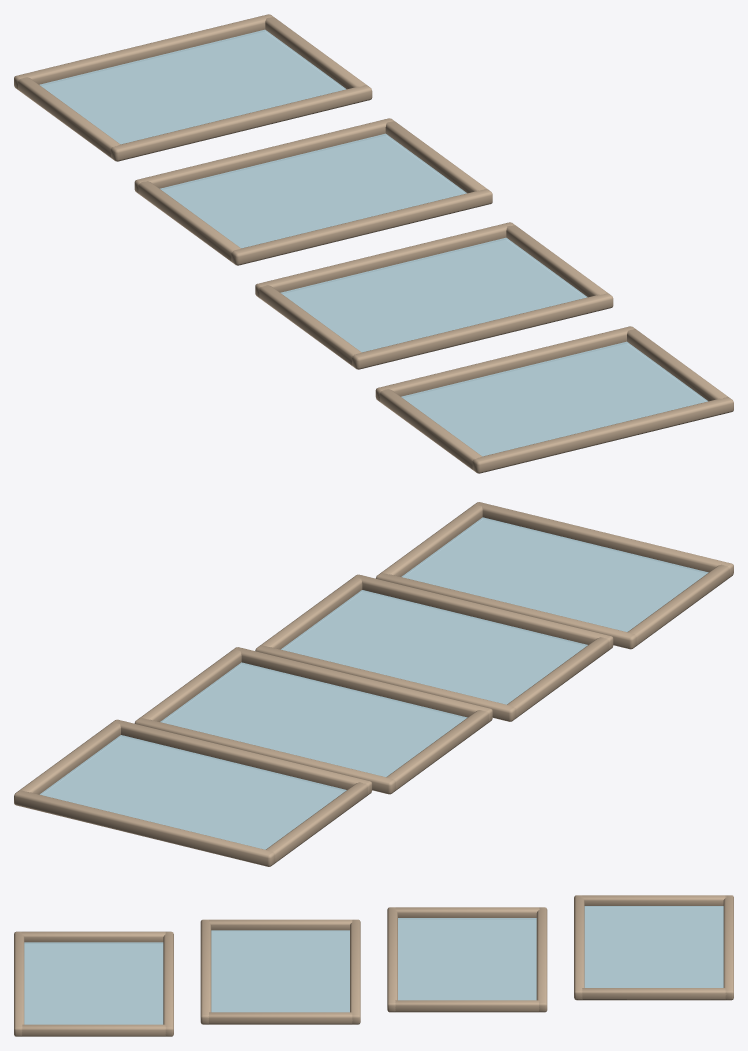
File: paddy.glb
The picture shows the model from 3 angles, top to bottom: view 1: azimuth 30°, elevation 25°; view 2: azimuth 150°, elevation 25°; view 3: azimuth 270°, elevation 25°; orthographic projection. The views are drawn at different scales.
Parts seen in each view (by area): view 1: Water_T2, Water_T1, Water_T3, Water_T0, Bank_T1_0, Bank_T3_0, Bank_T0_0, Bank_T2_0, Bank_T2_1, Bank_T0_1, Bank_T1_1, Bank_T3_1 (+8 smaller); view 2: Water_T1, Water_T2, Water_T3, Water_T0, Bank_T0_1, Bank_T0_0, Bank_T2_0, Bank_T3_0, Bank_T1_0, Bank_T2_1, Bank_T3_1, Bank_T1_1 (+8 smaller); view 3: Water_T3, Water_T1, Water_T2, Water_T0, Bank_T0_3, Bank_T2_3, Bank_T1_3, Bank_T3_3, Bank_T3_2, Bank_T2_2, Bank_T0_2, Bank_T1_2 (+8 smaller).
Boxes of the visible parts, bbox=[...] form: Water_T2: bbox=[280, 237, 587, 352]; Water_T1: bbox=[160, 133, 466, 248]; Water_T3: bbox=[401, 341, 707, 456]; Water_T0: bbox=[39, 29, 346, 144]; Bank_T1_0: bbox=[231, 189, 492, 265]; Bank_T3_0: bbox=[472, 397, 733, 473]; Bank_T0_0: bbox=[110, 85, 372, 161]; Bank_T2_0: bbox=[352, 293, 613, 369]; Bank_T2_1: bbox=[255, 222, 515, 298]; Bank_T0_1: bbox=[14, 14, 273, 89]; Bank_T1_1: bbox=[134, 118, 393, 193]; Bank_T3_1: bbox=[375, 326, 635, 401]; Water_T1: bbox=[160, 662, 467, 776]; Water_T2: bbox=[281, 590, 587, 704]; Water_T3: bbox=[401, 517, 708, 631]; Water_T0: bbox=[40, 735, 346, 849]; Bank_T0_1: bbox=[14, 790, 275, 866]; Bank_T0_0: bbox=[112, 719, 372, 795]; Bank_T2_0: bbox=[353, 574, 613, 649]; Bank_T3_0: bbox=[474, 502, 733, 577]; Bank_T1_0: bbox=[233, 647, 492, 722]; Bank_T2_1: bbox=[255, 645, 516, 721]; Bank_T3_1: bbox=[376, 573, 636, 649]; Bank_T1_1: bbox=[134, 717, 395, 794]; Water_T3: bbox=[24, 942, 163, 1024]; Water_T1: bbox=[398, 918, 536, 1000]; Water_T2: bbox=[211, 930, 349, 1012]; Water_T0: bbox=[584, 906, 723, 987]; Bank_T0_3: bbox=[581, 988, 726, 1000]; Bank_T2_3: bbox=[208, 1012, 352, 1024]; Bank_T1_3: bbox=[395, 1000, 539, 1012]; Bank_T3_3: bbox=[21, 1024, 166, 1036]; Bank_T3_2: bbox=[21, 931, 165, 942]; Bank_T2_2: bbox=[209, 919, 352, 930]; Bank_T0_2: bbox=[582, 895, 726, 905]; Bank_T1_2: bbox=[395, 907, 539, 917].
Bounding box in the file's own units: 15.4 × 3.4 × 48.2.
